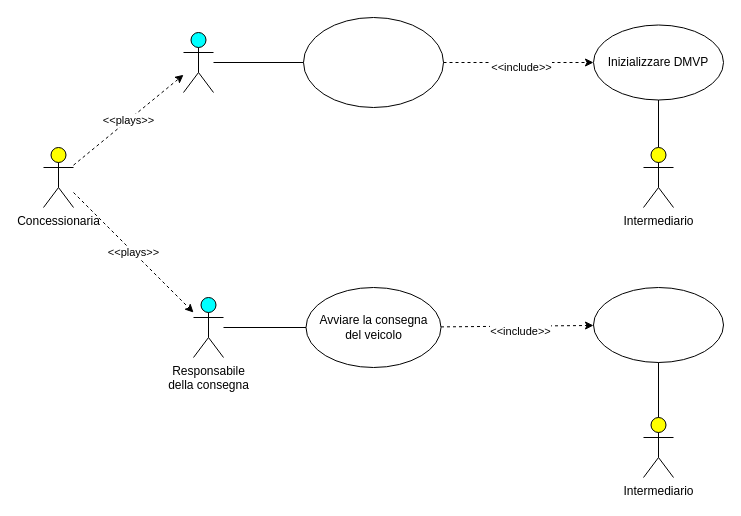
The diagram is 741 pixels wide and 516 high, and some of its shapes have lost their labels. The box of each missing label's shape, as (x1, y1, x2, y2) in pixels:
Registrante del veicolo base: (182, 32, 214, 92)
Registrare consegna sul DMVP: (592, 286, 724, 362)
Registrare veicolo base e richiesta di tuning: (302, 16, 444, 108)
